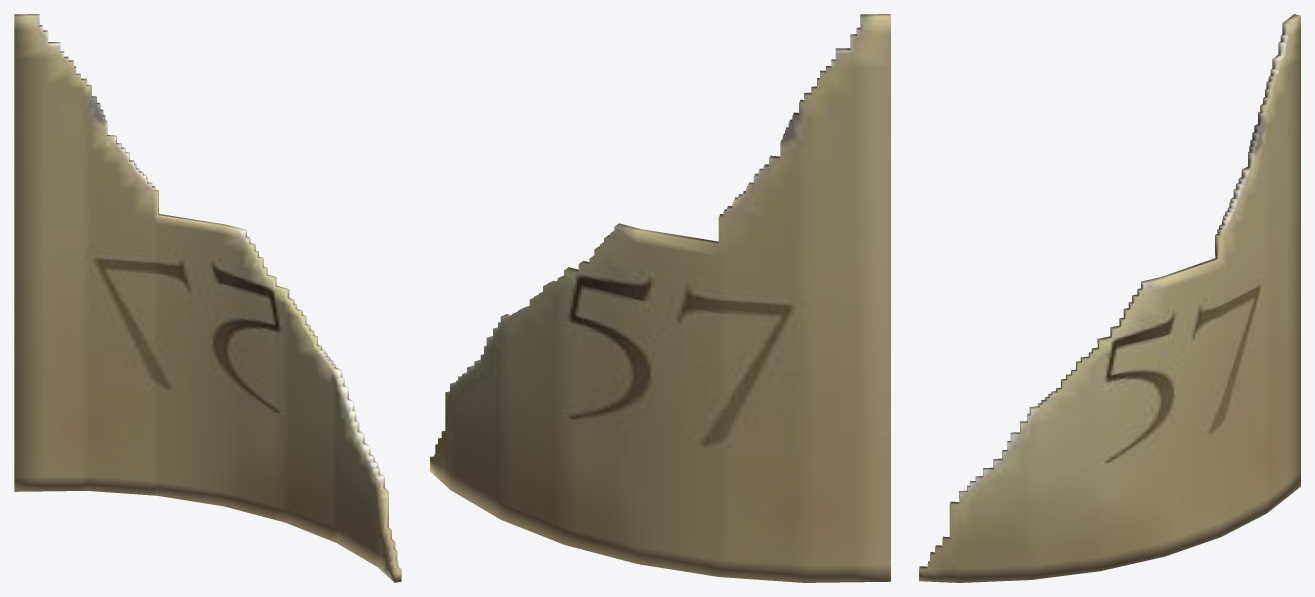
The model's file is Wine label BOTTOM3.fbx.
3 views of the same model, side by side, from view 1: azimuth 30°, elevation 25°; view 2: azimuth 210°, elevation 25°; view 3: azimuth 270°, elevation 25° (orthographic). The views are drawn at different scales.
Visible parts, largest first — view 1: Cylinder.002; view 2: Cylinder.002; view 3: Cylinder.002.
Boxes of the visible parts, box(x1,y1,x2,y2) form: Cylinder.002: box(14, 14, 401, 582); Cylinder.002: box(430, 14, 890, 582); Cylinder.002: box(919, 14, 1300, 582).
Size of the model in its own units: 29.88 by 67 by 49.24.
Materials: 1 (1 with a texture image).
